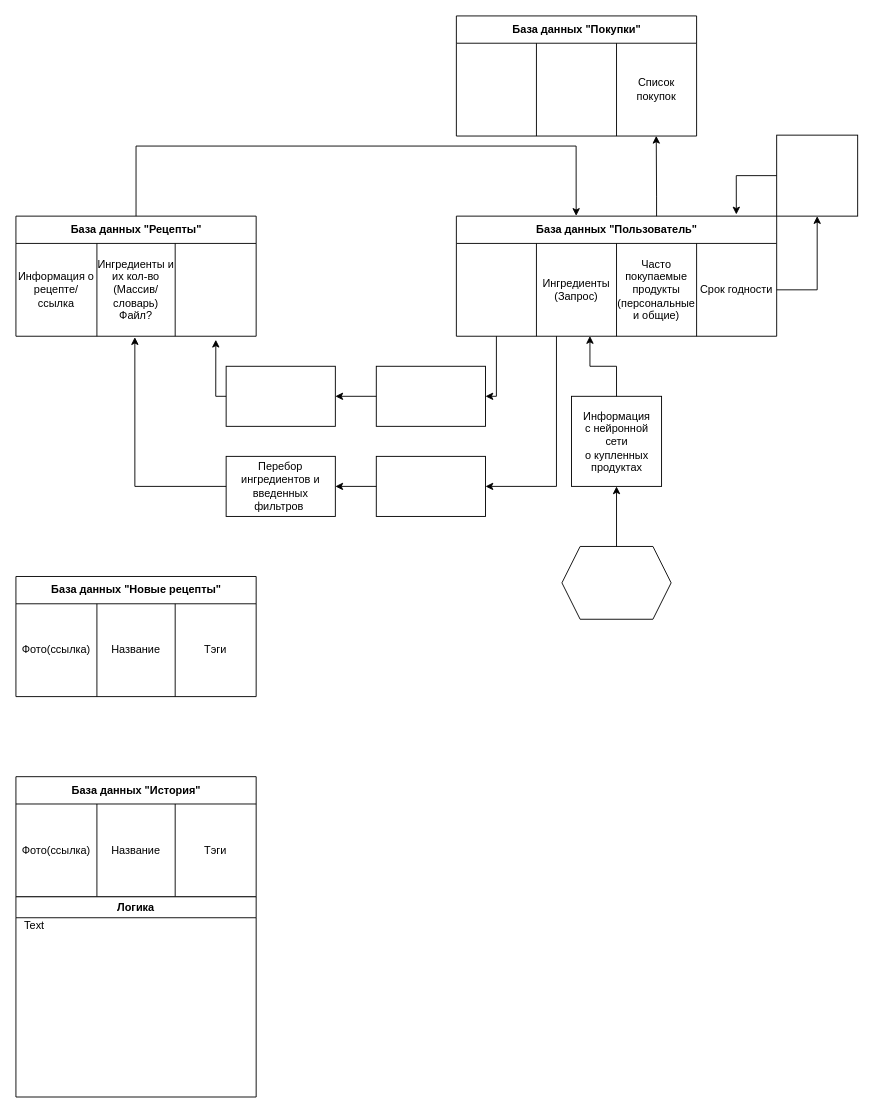
Some shapes in this 874 by 1113 pixel diagram are drawn without their labels. The shapes that lost their labels are listed below. From the top down, each one's centre as x and y in pixels, then its label:
At point 817,175: "Каждый день count -=1".
At point 430,485: "Проверка на класс аллергий и любимых продуктов".
At point 616,582: "Обработка чеков".
